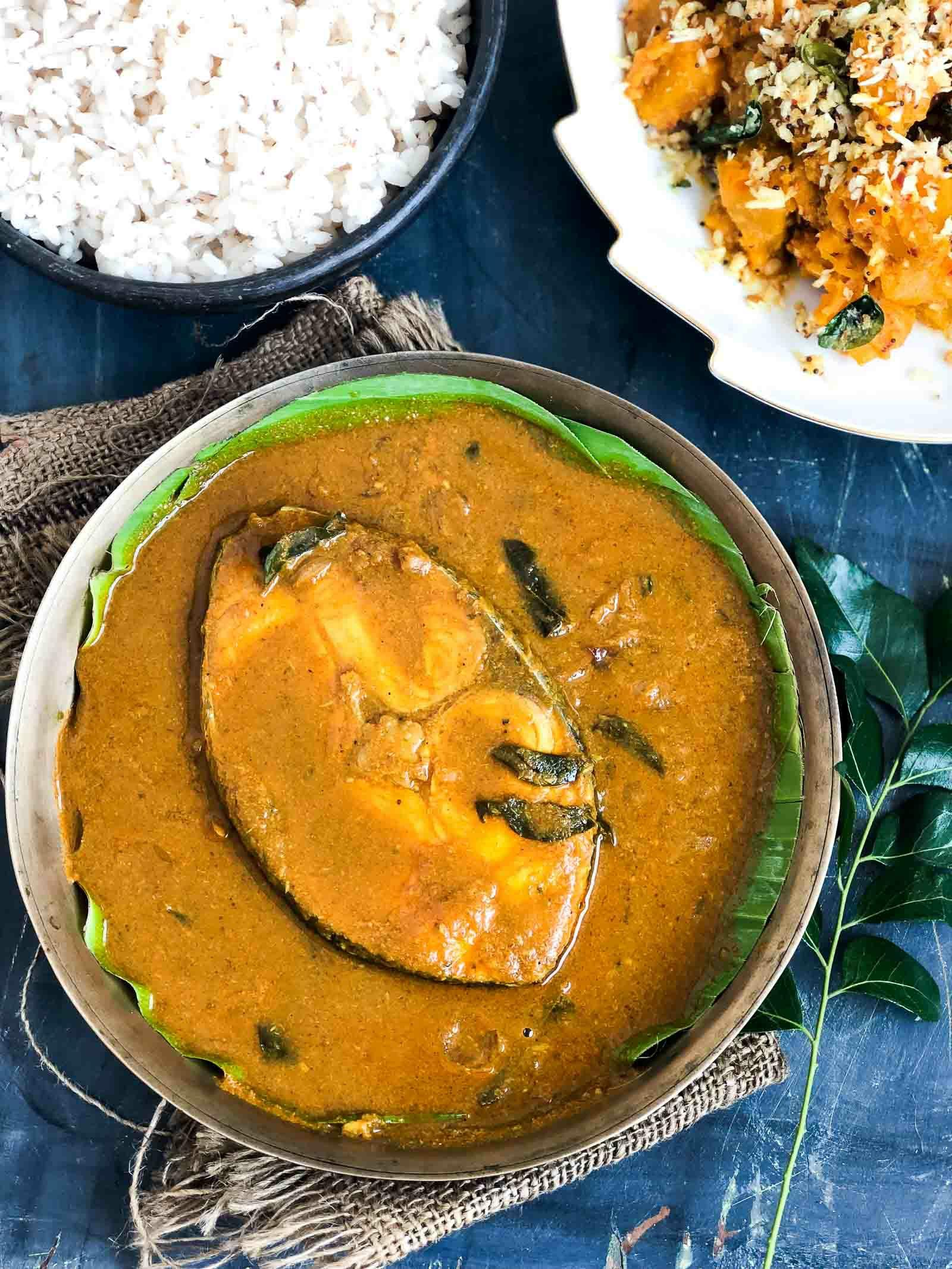FishCurry: (61, 419, 768, 1142)
WhiteRice: (3, 3, 473, 283)
